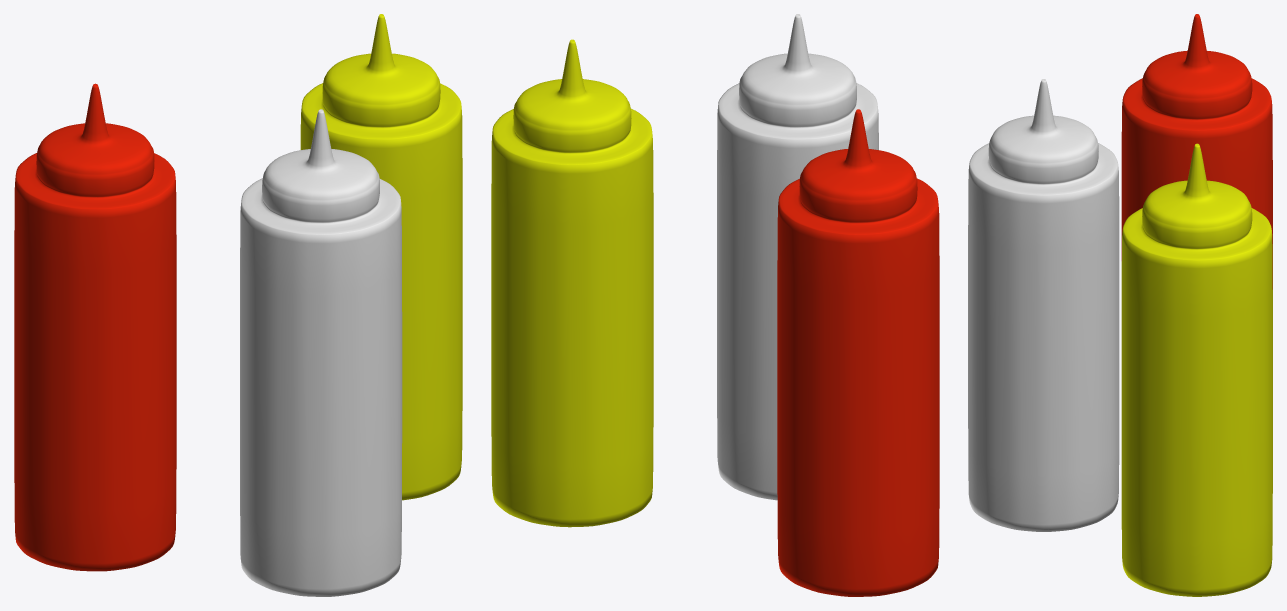
File: low_poly_sauce_bottle_pack_game_ready.glb
3 renders of one model, left to right at view 1: azimuth 30°, elevation 25°; view 2: azimuth 150°, elevation 25°; view 3: azimuth 270°, elevation 25°, orthographic. The views are drawn at different scales.
Visible parts, largest first — view 1: chili sauce, mayonaise, mustard; view 2: chili sauce, mustard, mayonaise; view 3: mustard, mayonaise, chili sauce.
Part boxes in pixels (left/top/right/bottom): chili sauce: left=14, top=83, right=176, bottom=571; mayonaise: left=240, top=109, right=402, bottom=596; mustard: left=300, top=14, right=462, bottom=500; chili sauce: left=777, top=109, right=939, bottom=596; mustard: left=491, top=39, right=653, bottom=527; mayonaise: left=717, top=14, right=878, bottom=500; mustard: left=1121, top=143, right=1272, bottom=596; mayonaise: left=968, top=79, right=1119, bottom=531; chili sauce: left=1121, top=14, right=1272, bottom=289.
Size of the model in its own units: 2.99 by 3.03 by 1.99.
